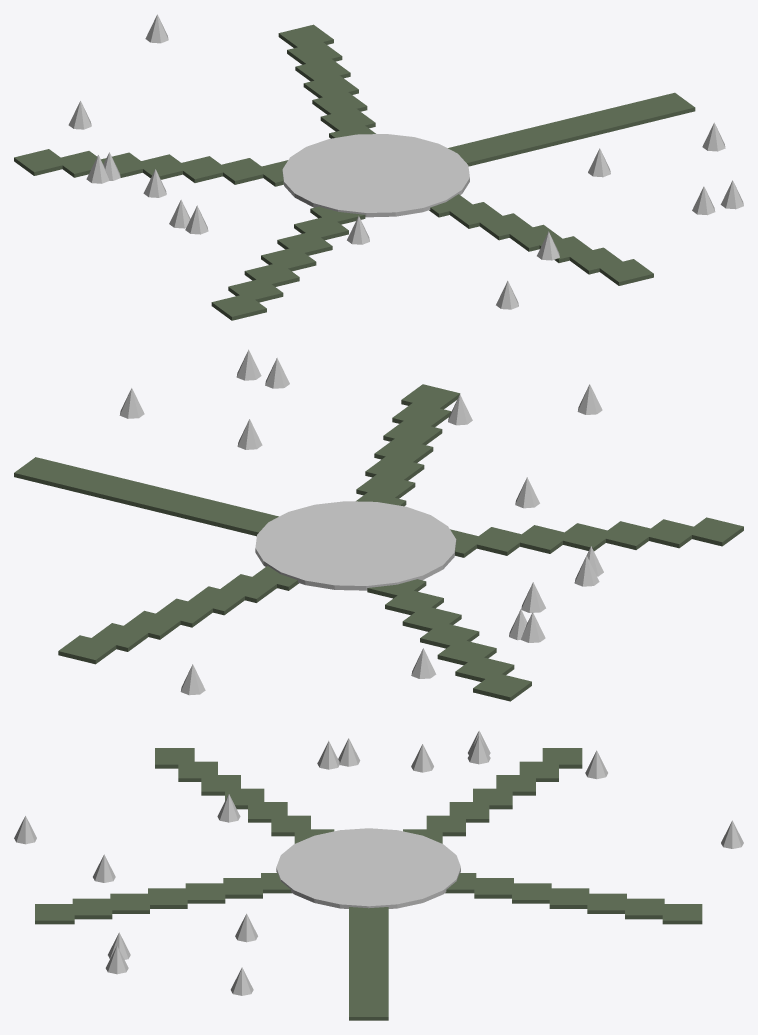
File: layout_main.obj
3 views of the same model, one above another, from view 1: azimuth 30°, elevation 25°; view 2: azimuth 150°, elevation 25°; view 3: azimuth 270°, elevation 25° (orthographic). The views are drawn at different scales.
Visible parts, largest first — view 1: paths, plaza, scatter; view 2: paths, plaza, scatter; view 3: paths, plaza, scatter.
Part boxes in pixels (x1,y1,x2,y2): paths: (14,24,695,320); plaza: (282,134,469,217); scatter: (68,14,743,309); paths: (14,384,743,701); plaza: (255,501,456,590); scatter: (119,349,603,695); paths: (35,748,702,1020); plaza: (276,828,460,908); scatter: (14,730,743,995).
Bounding box in the file's own units: 48.23 × 3.08 × 55.31.
